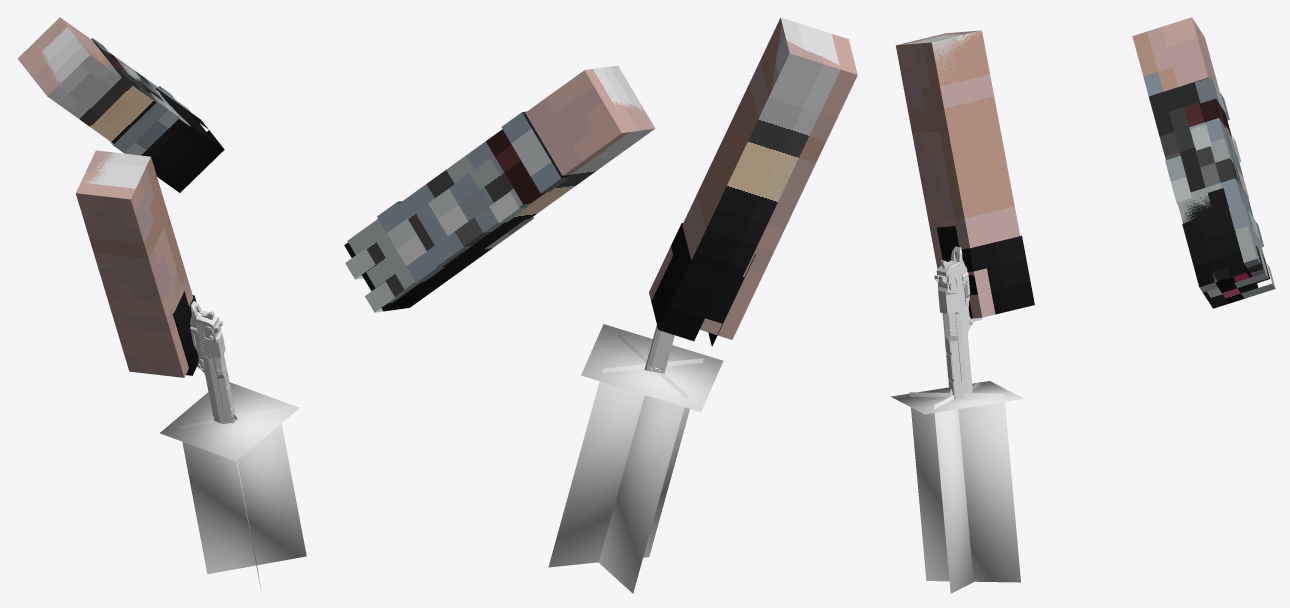
The model's file is deagle.gltf.
3 renders of one model, left to right at view 1: azimuth 30°, elevation 25°; view 2: azimuth 150°, elevation 25°; view 3: azimuth 270°, elevation 25°, orthographic. The views are drawn at different scales.
Parts seen in each view (by area): view 1: flashModel, rightArmModel, leftArmSlimModel, leftArmModel, leftArmLayerSlimModel, leftArmLayerModel, gunModel, rightArmSlimModel, slideModel, rightArmLayerSlimModel; view 2: flashModel, leftArmModel, rightArmSlimModel, rightArmModel, leftArmLayerModel, rightArmLayerSlimModel, leftArmSlimModel, leftArmLayerSlimModel, gunModel; view 3: flashModel, rightArmModel, leftArmModel, rightArmLayerSlimModel, leftArmLayerSlimModel, leftArmLayerModel, gunModel, slideModel, leftArmSlimModel, rightArmLayerModel, rightArmSlimModel.
Boxes of the visible parts, x1=… form: flashModel: x1=160, y1=382, x2=306, y2=590; rightArmModel: x1=75, y1=150, x2=193, y2=377; leftArmSlimModel: x1=42, y1=27, x2=206, y2=162; leftArmModel: x1=17, y1=17, x2=190, y2=126; leftArmLayerSlimModel: x1=153, y1=88, x2=224, y2=192; leftArmLayerModel: x1=91, y1=38, x2=179, y2=155; gunModel: x1=190, y1=301, x2=237, y2=423; rightArmSlimModel: x1=87, y1=152, x2=150, y2=188; slideModel: x1=195, y1=311, x2=225, y2=411; rightArmLayerSlimModel: x1=172, y1=291, x2=198, y2=375; flashModel: x1=548, y1=324, x2=723, y2=593; leftArmModel: x1=347, y1=69, x2=655, y2=303; rightArmSlimModel: x1=691, y1=17, x2=840, y2=276; rightArmModel: x1=682, y1=18, x2=857, y2=339; leftArmLayerModel: x1=345, y1=111, x2=569, y2=312; rightArmLayerSlimModel: x1=651, y1=223, x2=755, y2=346; leftArmSlimModel: x1=466, y1=65, x2=654, y2=251; leftArmLayerSlimModel: x1=344, y1=242, x2=492, y2=311; gunModel: x1=644, y1=330, x2=674, y2=373; flashModel: x1=891, y1=381, x2=1023, y2=593; rightArmModel: x1=895, y1=30, x2=1020, y2=268; leftArmModel: x1=1132, y1=17, x2=1270, y2=282; rightArmLayerSlimModel: x1=936, y1=226, x2=1034, y2=318; leftArmLayerSlimModel: x1=1182, y1=188, x2=1258, y2=308; leftArmLayerModel: x1=1165, y1=77, x2=1275, y2=298; gunModel: x1=942, y1=246, x2=982, y2=399; slideModel: x1=934, y1=262, x2=971, y2=381; leftArmSlimModel: x1=1182, y1=195, x2=1253, y2=297; rightArmLayerModel: x1=967, y1=268, x2=995, y2=318; rightArmSlimModel: x1=905, y1=30, x2=981, y2=84.
Size of the model in its own units: 14.7 by 25.99 by 17.17.
4 materials, 2 textured.
